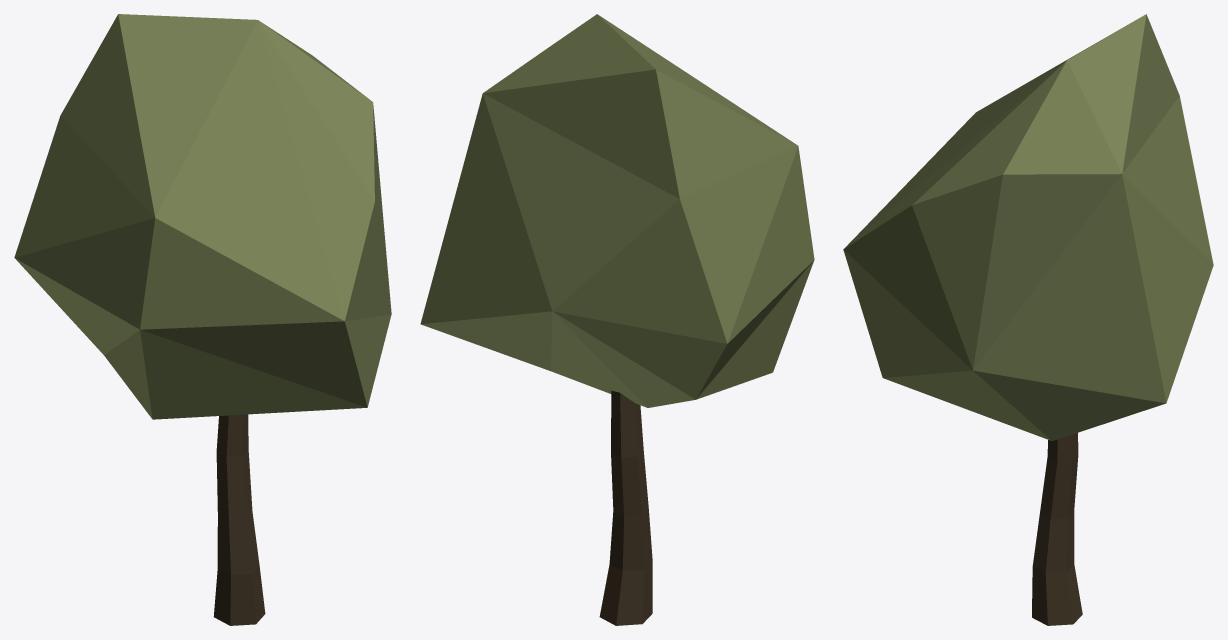
The model's file is Tree04.fbx.
3 views of the same model, side by side, from view 1: azimuth 30°, elevation 25°; view 2: azimuth 150°, elevation 25°; view 3: azimuth 270°, elevation 25° (orthographic). The views are drawn at different scales.
Visible parts, largest first — view 1: pCylinder3; view 2: pCylinder3; view 3: pCylinder3.
Boxes of the visible parts, bbox=[...] form: pCylinder3: bbox=[14, 14, 391, 625]; pCylinder3: bbox=[420, 14, 814, 625]; pCylinder3: bbox=[843, 14, 1213, 625].
Size of the model in its own units: 245 by 448 by 265.
